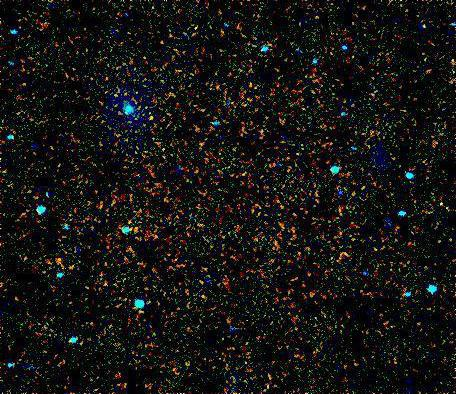star: (138, 104, 168, 134)
